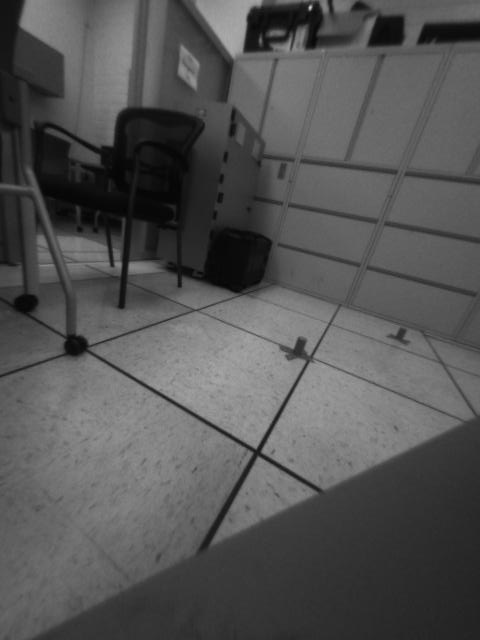X: (276, 334, 314, 363), (385, 325, 412, 345)
